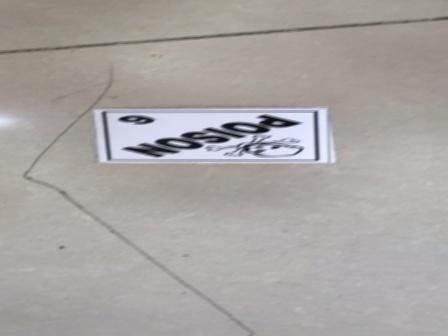poison: (92, 108, 333, 166)
